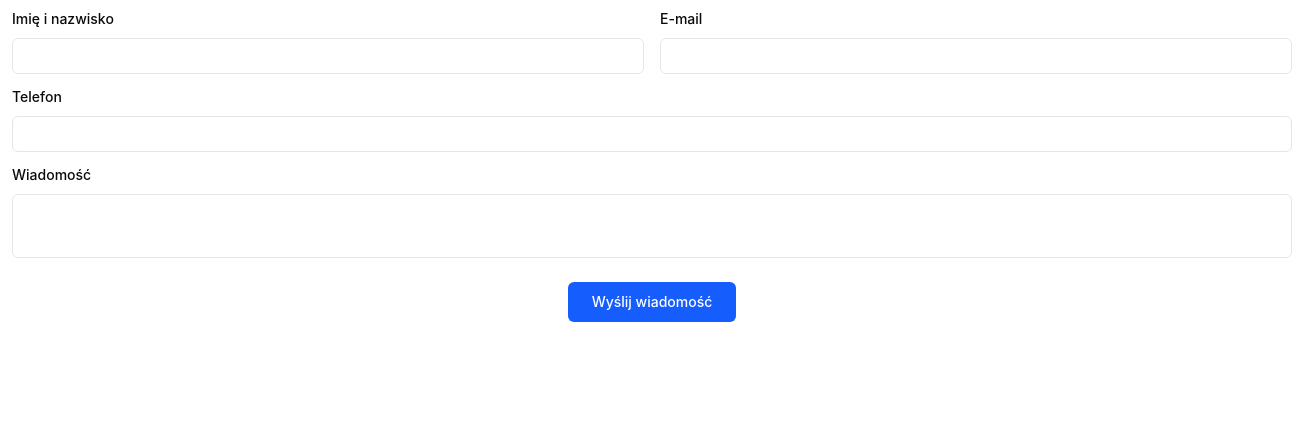
Test: ContactForm › maps backend validation errors to form fields
Type "Jan Kowalski" into the field labelled "Imię i nazwisko" at (328, 56), box x1=12 y1=38 x2=644 y2=74
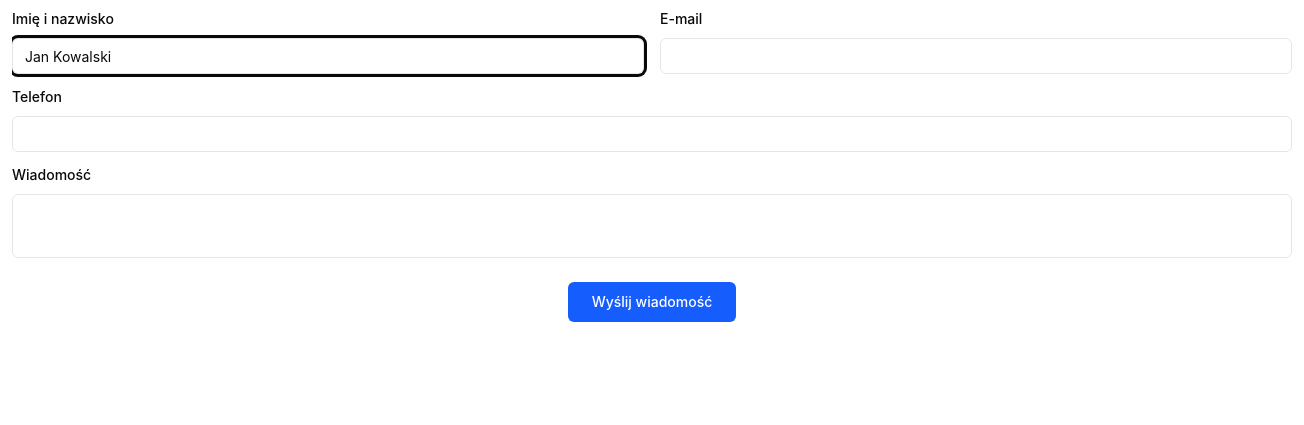
Type "jan@example.com" into the field labelled "E-mail" at (976, 56), box x1=660 y1=38 x2=1292 y2=74
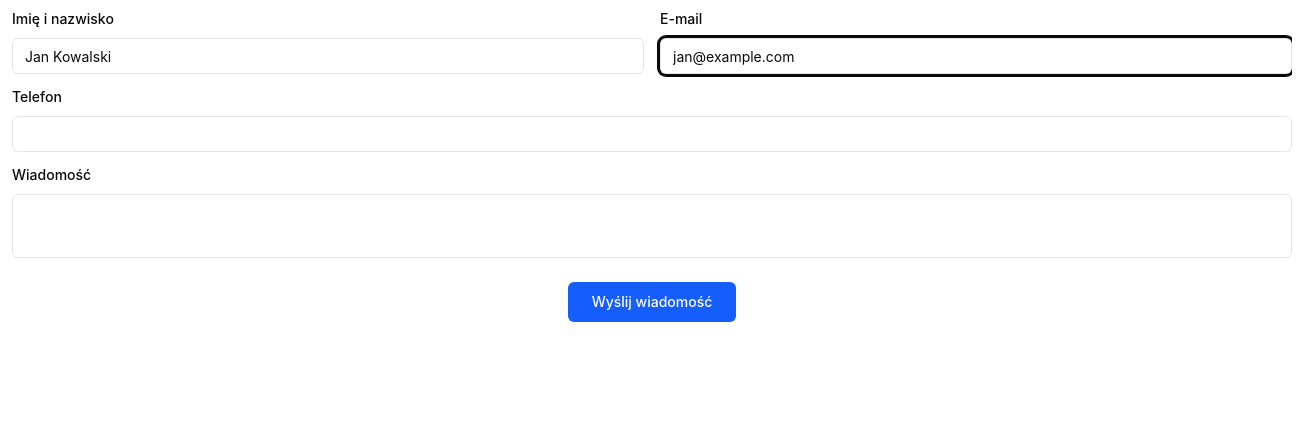
Type "123456789" into the field labelled "Telefon" at (652, 134), box x1=12 y1=116 x2=1292 y2=152
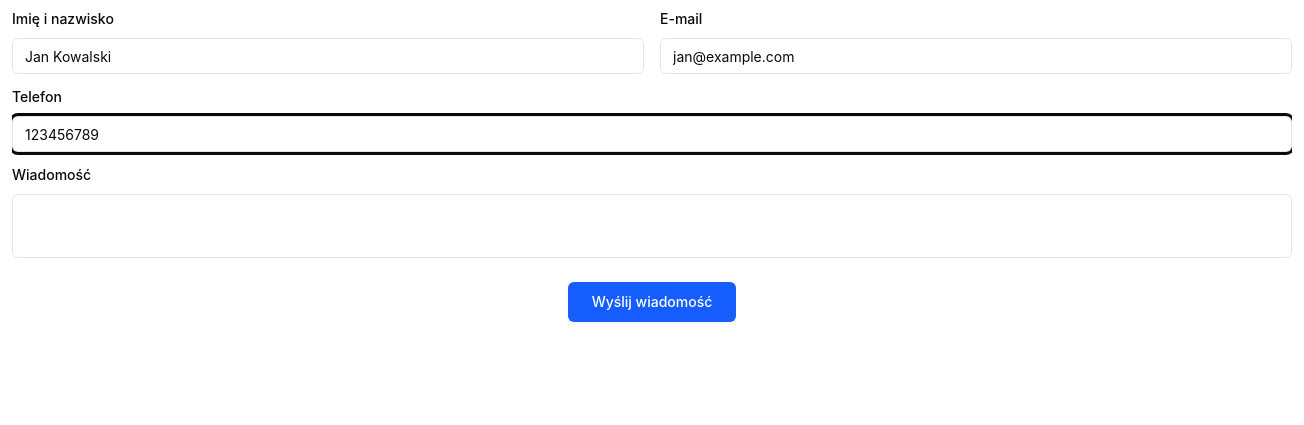
Type "Dzień dobry" into the text box labelled "Wiadomość" at (652, 226), box x1=12 y1=194 x2=1292 y2=258
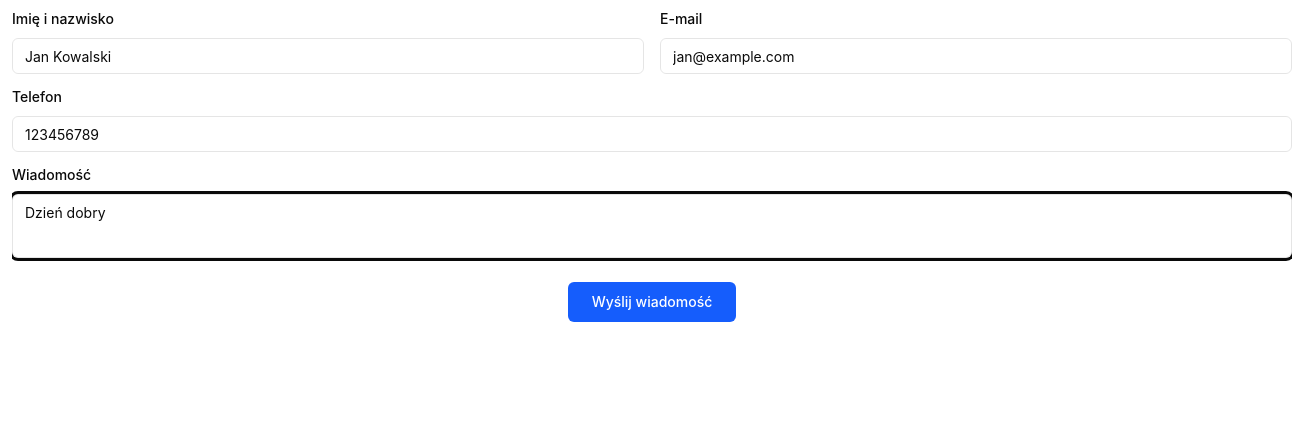
Click the button "Wyślij wiadomość" at (652, 302), box x1=568 y1=282 x2=736 y2=322
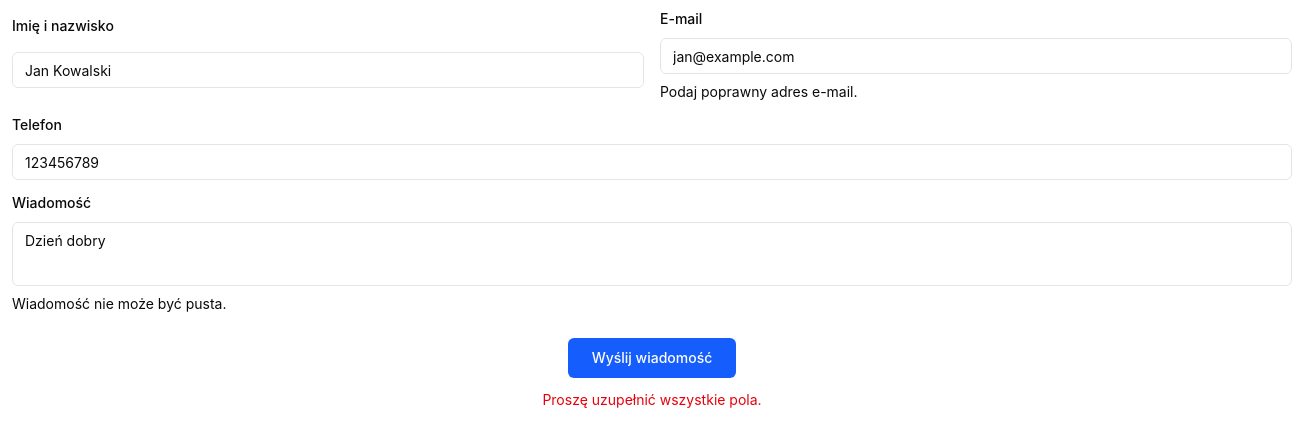
Expected: the text "Podaj poprawny adres e-mail." is shown, x1=660 y1=83 x2=858 y2=100
Expected: the text "Wiadomość nie może być pusta." is shown, x1=12 y1=295 x2=226 y2=312
Expected: the text "Proszę uzupełnić wszystkie pola." is shown, x1=542 y1=391 x2=762 y2=408
